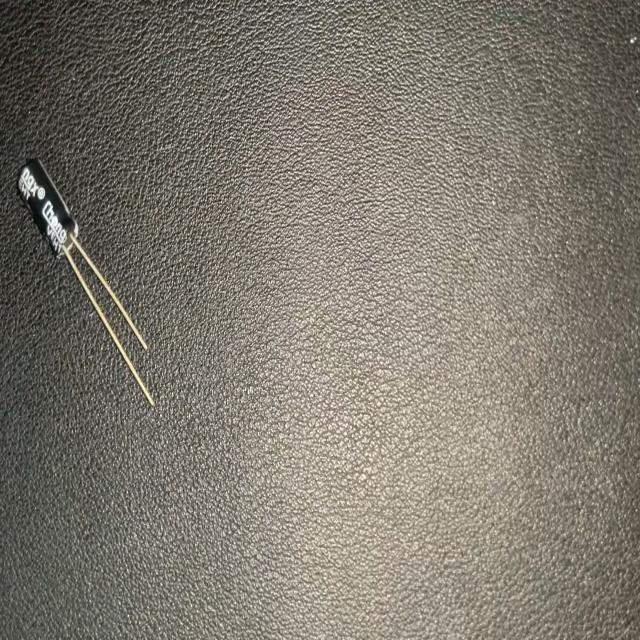capacitor: (15, 156, 154, 409)
